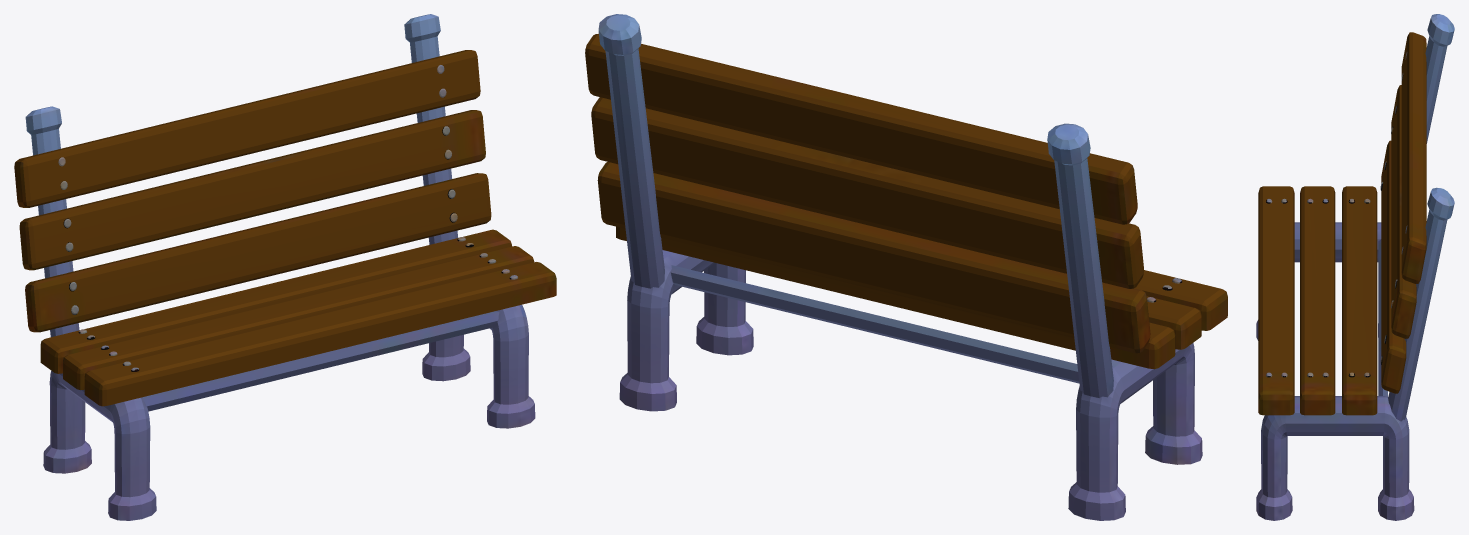
The model's file is bench_yard.glb.
The picture shows the model from 3 angles, left to right: view 1: azimuth 30°, elevation 25°; view 2: azimuth 150°, elevation 25°; view 3: azimuth 270°, elevation 25°; orthographic projection. The views are drawn at different scales.
Visible parts, largest first — view 1: bench_yard; view 2: bench_yard; view 3: bench_yard.
Boxes of the visible parts, x1,y1,x2,y2 form: bench_yard: (14, 14, 556, 520); bench_yard: (585, 14, 1227, 520); bench_yard: (1256, 14, 1454, 520).
Size of the model in its own units: 1.25 by 0.89 by 0.5.
1 material, 1 textured.
